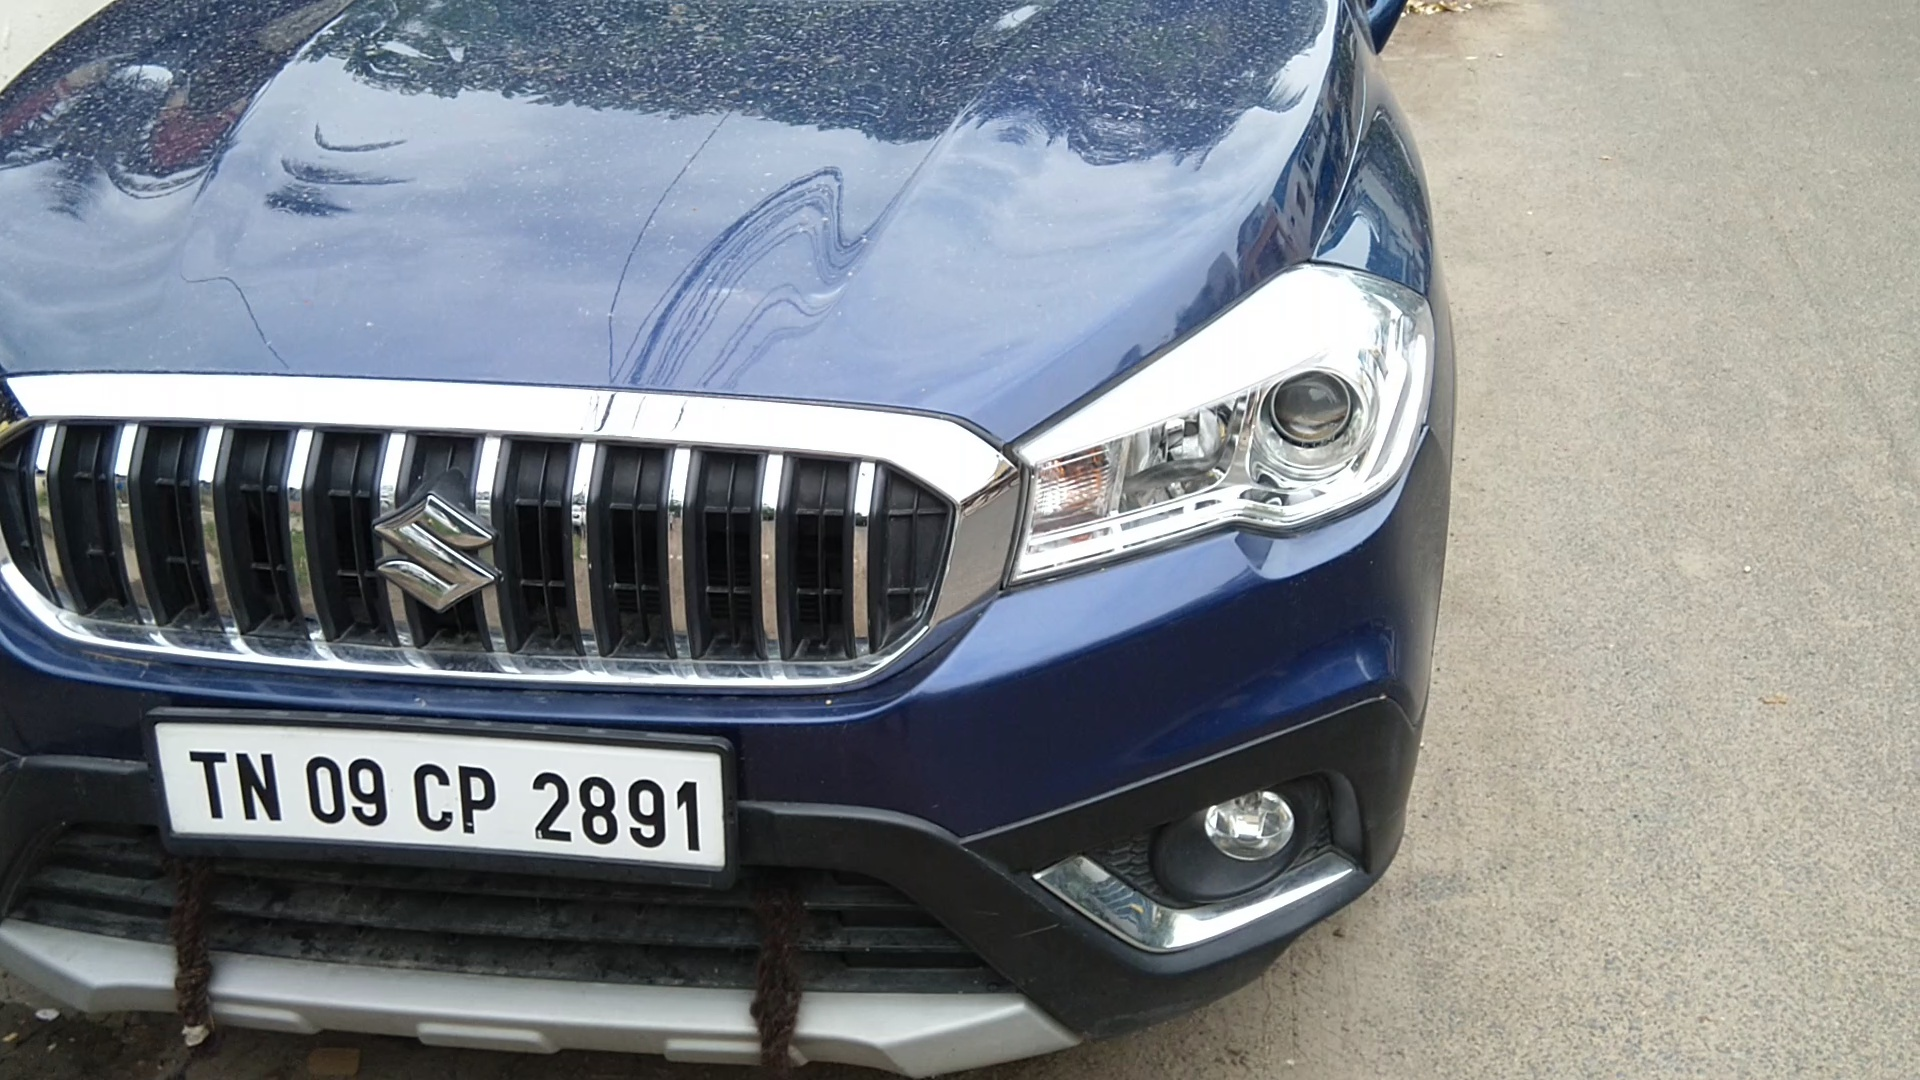front_grill: (1, 361, 1017, 728)
headlamp: (1014, 233, 1441, 593)
